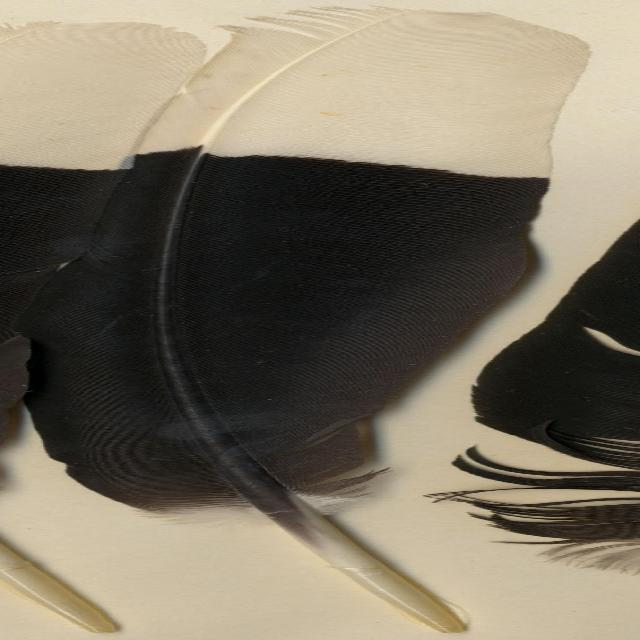feather: (38, 6, 604, 630)
